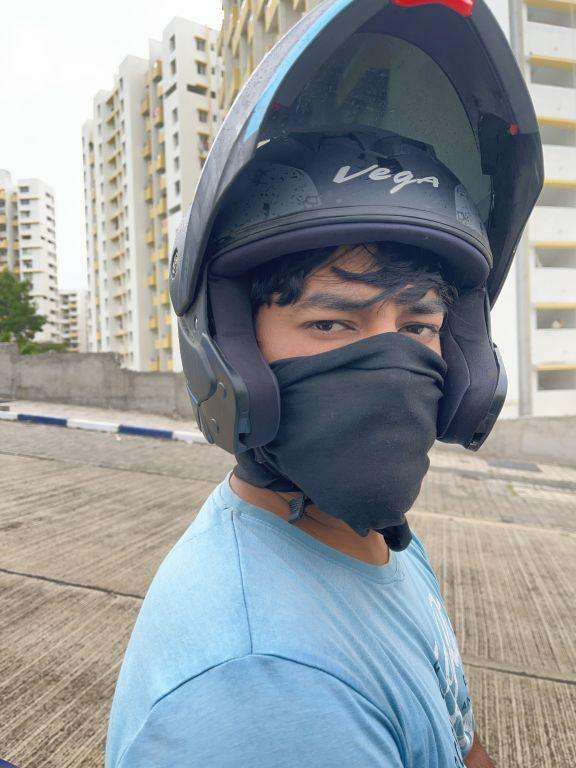helmet: (162, 0, 549, 539)
